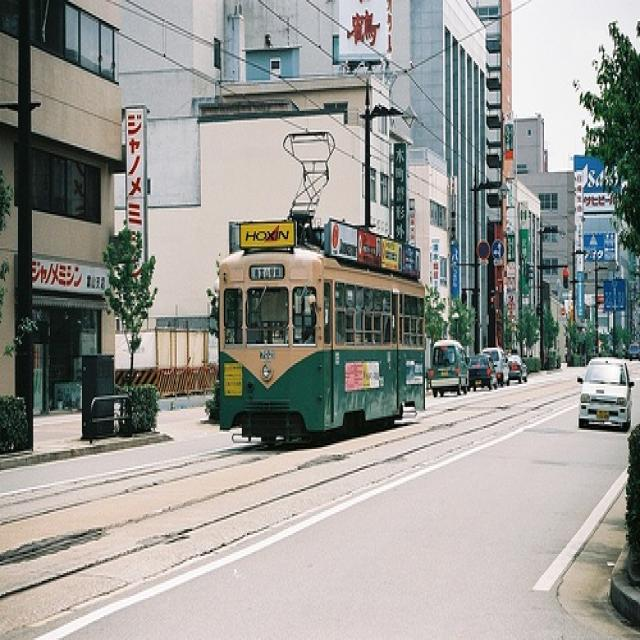car: (576, 355, 635, 432), (429, 336, 467, 394), (480, 346, 507, 386), (466, 357, 494, 386), (508, 354, 526, 382)
